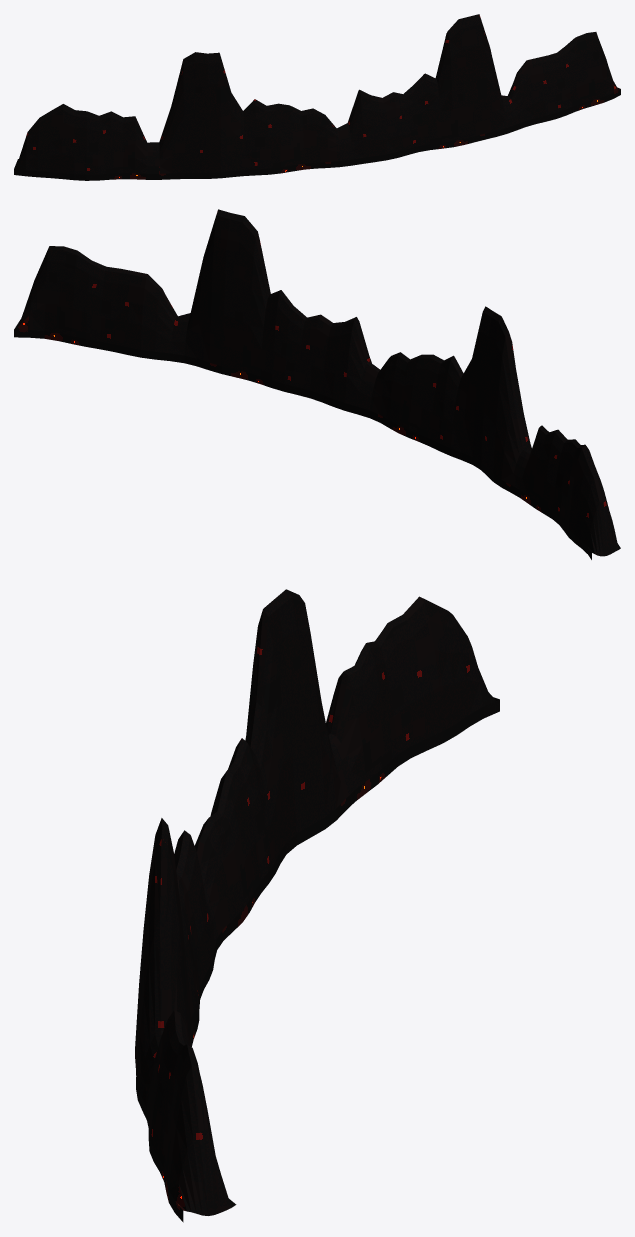
Rendered from map_base_cover_s2.glb.
The picture shows the model from 3 angles, top to bottom: view 1: azimuth 30°, elevation 25°; view 2: azimuth 150°, elevation 25°; view 3: azimuth 270°, elevation 25°; orthographic projection. The views are drawn at different scales.
Parts seen in each view (by area): view 1: MapBaseCoverS2Rock; view 2: MapBaseCoverS2Rock; view 3: MapBaseCoverS2Rock.
Part boxes in pixels (box(x1,y1,x2,y2)): MapBaseCoverS2Rock: box(14, 14, 620, 180); MapBaseCoverS2Rock: box(14, 209, 620, 559); MapBaseCoverS2Rock: box(135, 589, 499, 1222).
Size of what is drawn, in the model's own units: 46.36 by 10.03 by 13.63.
Materials: 2 (2 with a texture image).
